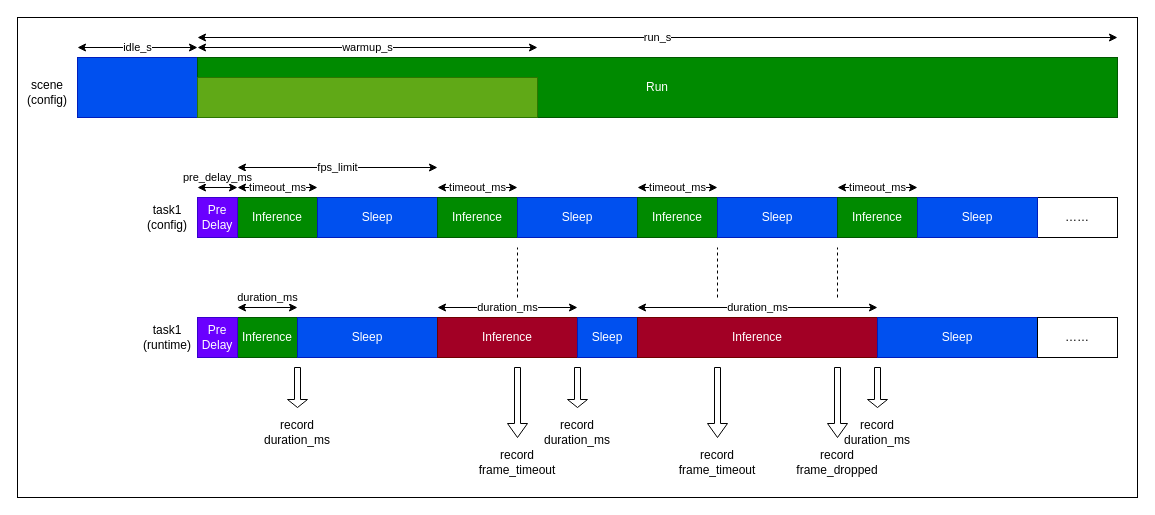
This 1155x515 diagram has some shape labels left out. Here are the shapes that lost their labels. From the top down, the centre of each, then its label:
At (x=137, y=87): "Idle".
At (x=367, y=97): "Warmup".
